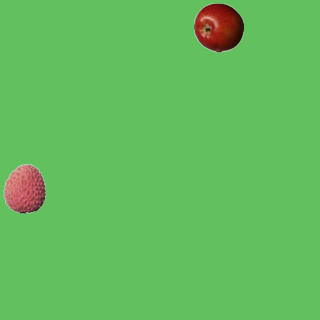Apple Braeburn: (193, 2, 243, 52)
Lychee: (0, 163, 49, 213)
